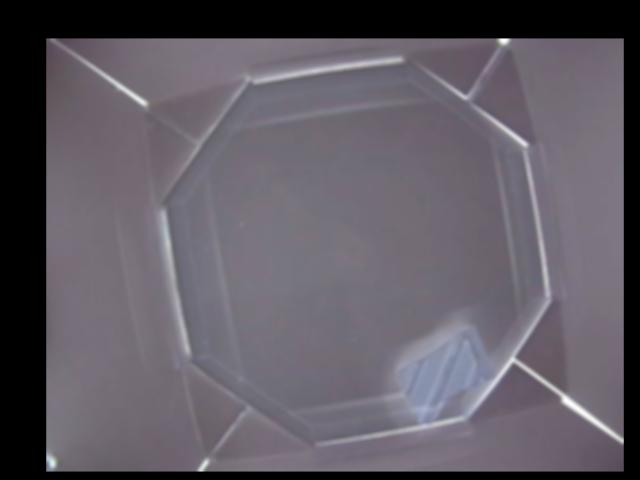China: (401, 325, 495, 426)
